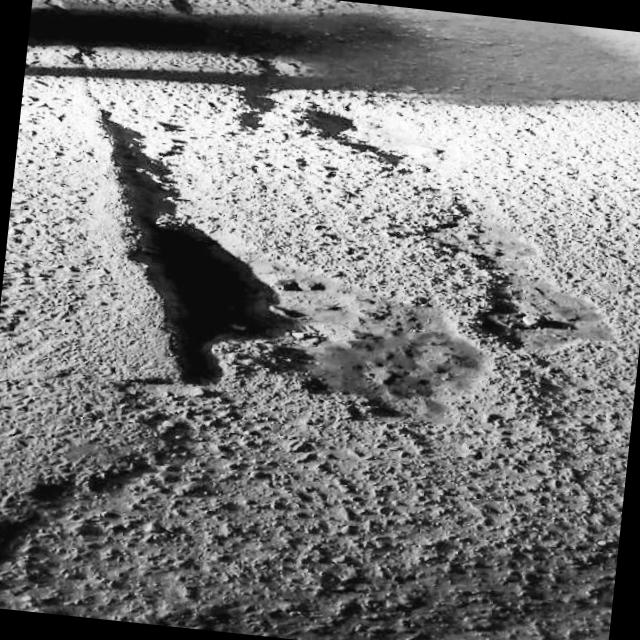Pothole: (104, 166, 358, 404), (450, 211, 596, 363), (296, 93, 368, 148)
